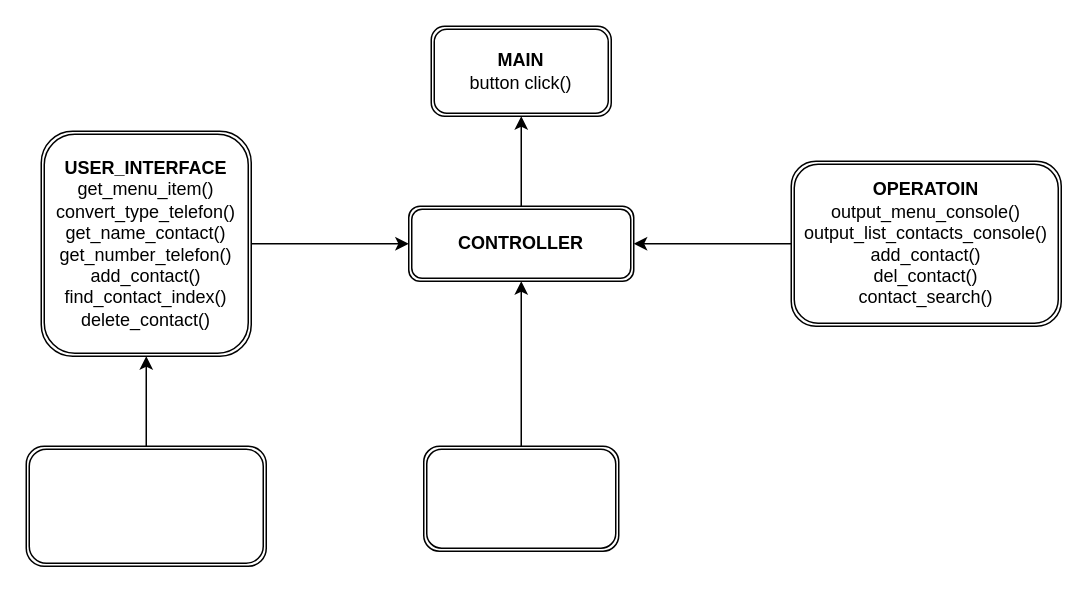
Some shapes in this 1088 by 593 pixel diagram are drawn without their labels. The shapes that lost their labels are listed below. From the top down, each one's box as (x1, y1, x2, y2) in pixels, then its label:
(25, 445, 266, 566): CHECK number_menu() check_name_contact() check_number_telefon()
(422, 445, 619, 551): LOGGER logging.basicConfig()
